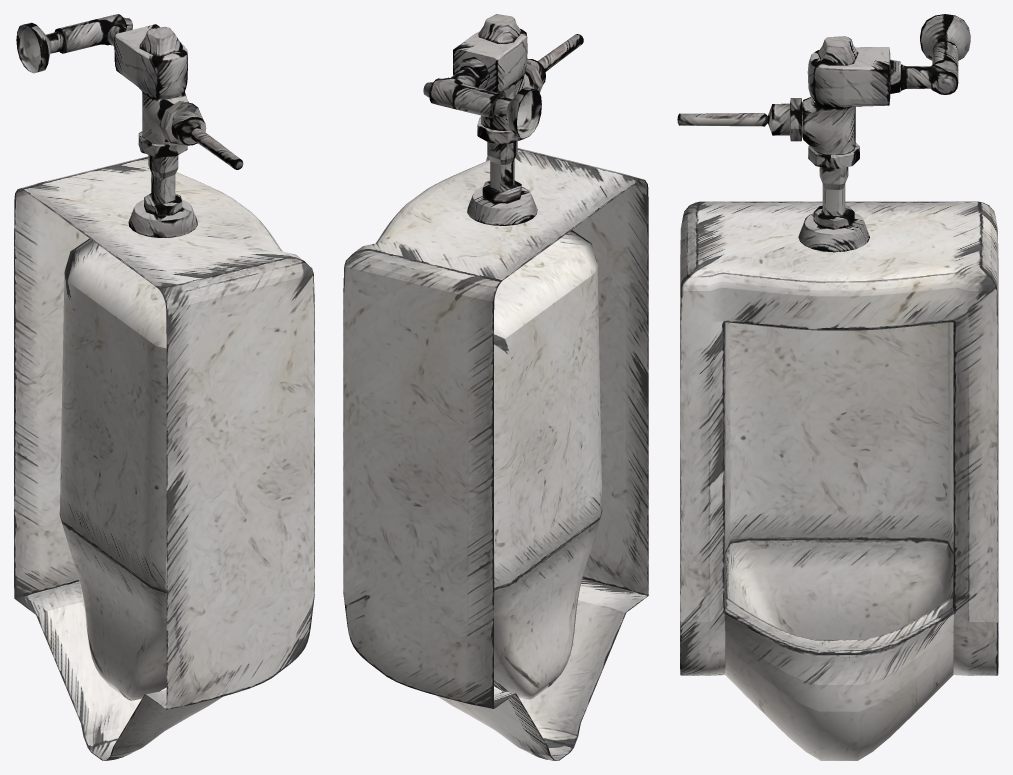
File: urinal.glb
The picture shows the model from 3 angles, left to right: view 1: azimuth 30°, elevation 25°; view 2: azimuth 150°, elevation 25°; view 3: azimuth 270°, elevation 25°; orthographic projection. The views are drawn at different scales.
Parts seen in each view (by area): view 1: urinal; view 2: urinal; view 3: urinal.
Boxes of the visible parts, bbox=[...] form: urinal: bbox=[14, 14, 314, 760]; urinal: bbox=[343, 14, 648, 760]; urinal: bbox=[677, 14, 998, 760].
Size of the model in its own units: 0.3813 by 1.21 by 0.4831.
1 material, 1 textured.
